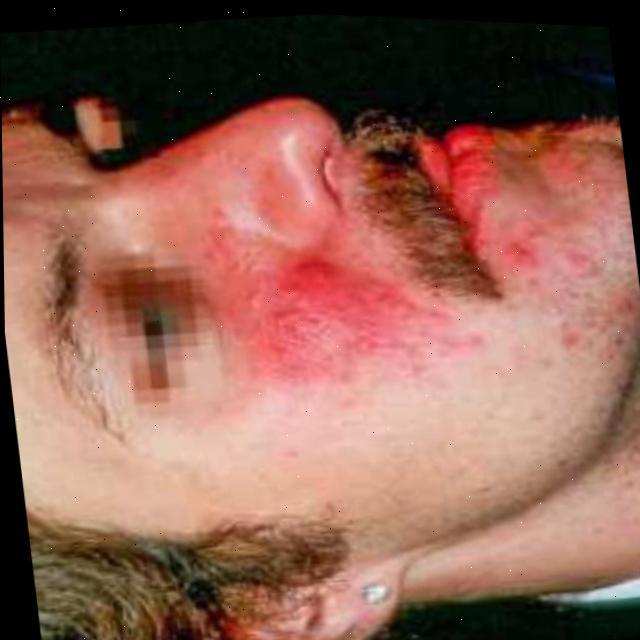Rosacea: (219, 231, 403, 417), (498, 125, 640, 336)
